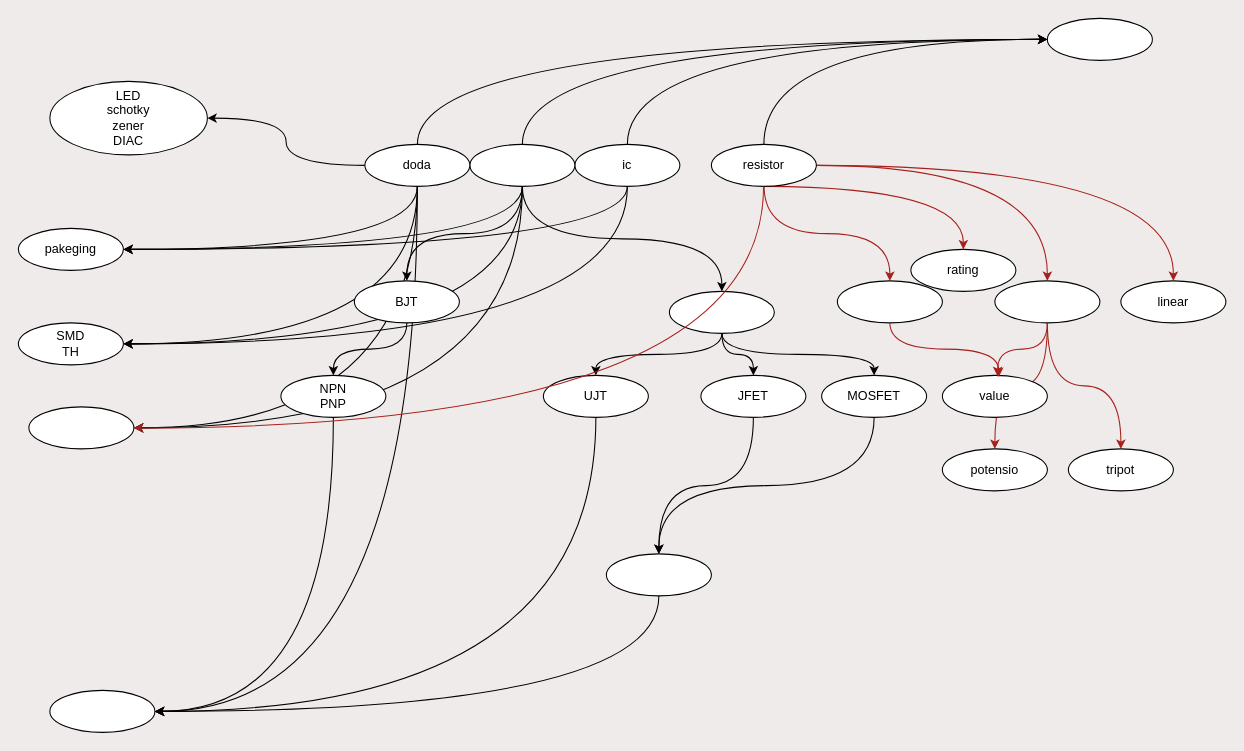
This 1244x751 diagram has some shape labels left out. Here are the shapes that lost their labels. From the top down, the centre of each, then its label:
At [1099,38]: "active pasive".
At [522,164]: "tr".
At [721,311]: "FET".
At [889,301]: "fixed".
At [1047,301]: "variable".
At [81,427]: "Si GE".
At [658,574]: "nChanne P chanell".
At [102,710]: "part number".
